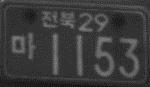1: (73, 32, 87, 77), (50, 31, 61, 77)
2: (77, 11, 93, 32)
3: (118, 36, 140, 79)
5: (92, 34, 116, 77)
9: (94, 11, 109, 34)
마: (10, 32, 37, 60)
전북_O: (40, 8, 75, 31)
